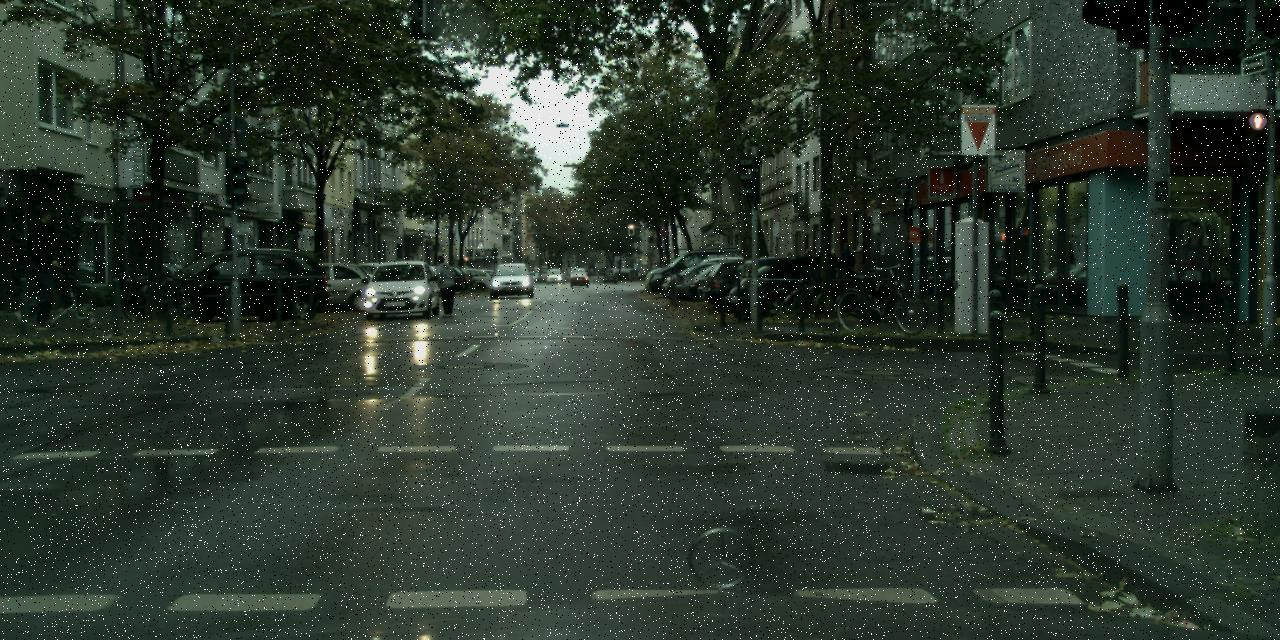ped: (12, 204, 61, 326), (432, 255, 457, 316), (836, 242, 856, 291), (803, 248, 813, 275)
